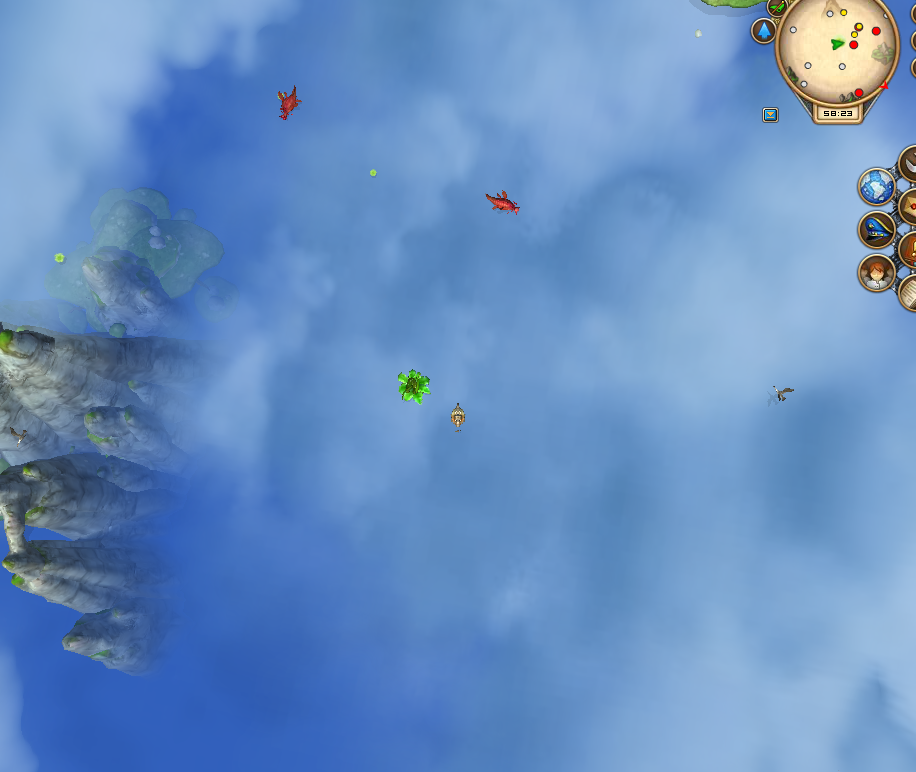dandelion-empty: (392, 362, 435, 408)
fluff: (52, 250, 67, 267), (368, 166, 380, 181)
